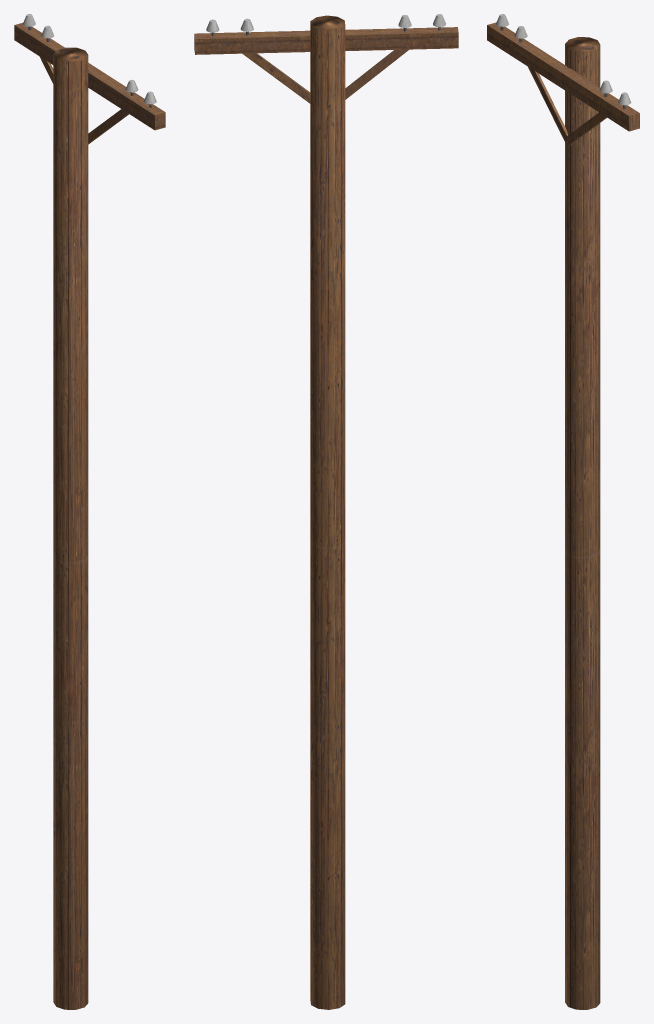
Rendered from Pole.FBX.
3 renders of one model, left to right at view 1: azimuth 90°, elevation 25°; view 2: azimuth 150°, elevation 25°; view 3: azimuth 270°, elevation 25°, orthographic. The views are drawn at different scales.
Visible parts, largest first — view 1: Cylinder001; view 2: Cylinder001; view 3: Cylinder001.
Part boxes in pixels (x1,y1,x2,y2): Cylinder001: (14,14,165,1009); Cylinder001: (194,14,458,1009); Cylinder001: (487,14,639,1009).
Size of what is drawn, in the model's own units: 97.74 by 463 by 67.01.
